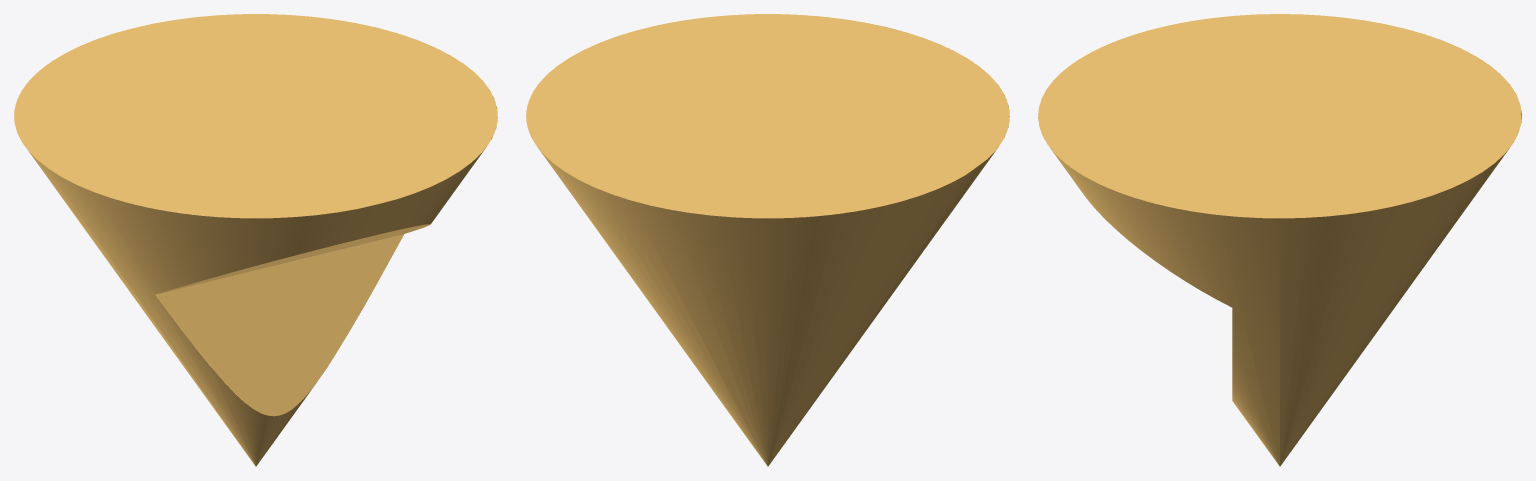
Rendered from yuanzhuijieduanti6.FBX.
The picture shows the model from 3 angles, left to right: view 1: azimuth 30°, elevation 25°; view 2: azimuth 150°, elevation 25°; view 3: azimuth 270°, elevation 25°; orthographic projection.
Parts seen in each view (by area): view 1: TRM_SRF (×5); view 2: TRM_SRF (×3); view 3: TRM_SRF (×3).
Part boxes in pixels (left/top/right/bottom): TRM_SRF (×5): left=14, top=14, right=497, bottom=466; TRM_SRF (×3): left=526, top=14, right=1009, bottom=466; TRM_SRF (×3): left=1038, top=14, right=1521, bottom=466.
Size of the model in its own units: 39.37 by 31.5 by 39.37.
